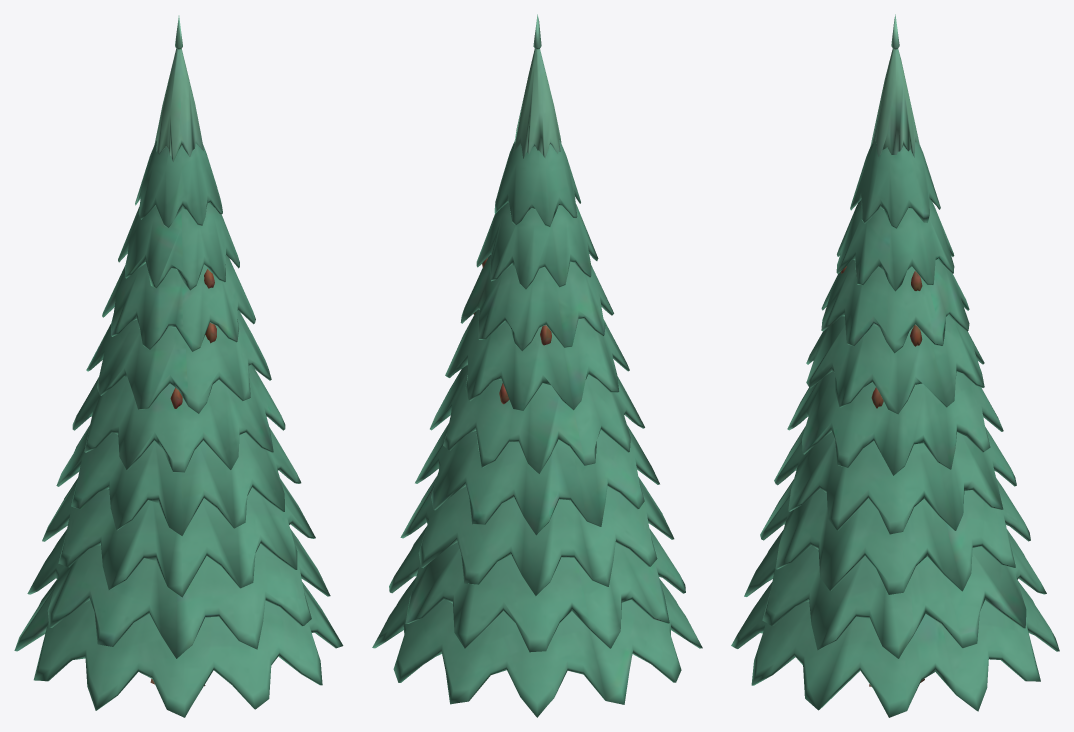
Rendered from spruce-tree.glb.
3 views of the same model, side by side, from view 1: azimuth 30°, elevation 25°; view 2: azimuth 150°, elevation 25°; view 3: azimuth 270°, elevation 25° (orthographic).
Visible parts, largest first — view 1: spruce-tree_body; view 2: spruce-tree_body; view 3: spruce-tree_body.
Boxes of the visible parts, <box> form: spruce-tree_body: <box>14,15,343,717</box>; spruce-tree_body: <box>372,14,702,717</box>; spruce-tree_body: <box>731,14,1059,717</box>.
Size of the model in its own units: 3.49 by 7.79 by 3.49.
Materials: 1 (1 with a texture image).
